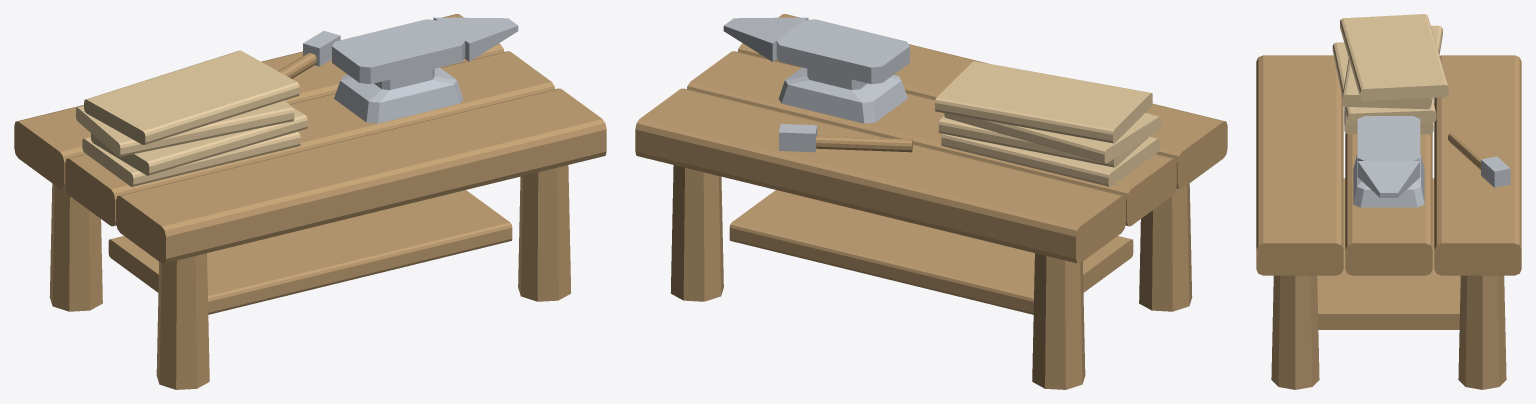
File: BuildStation.glb
3 renders of one model, left to right at view 1: azimuth 30°, elevation 25°; view 2: azimuth 150°, elevation 25°; view 3: azimuth 270°, elevation 25°, orthographic. The views are drawn at different scales.
Parts seen in each view (by area): view 1: BuildStation; view 2: BuildStation; view 3: BuildStation.
Part boxes in pixels (<box>): BuildStation: <box>14,14,606,389</box>; BuildStation: <box>635,14,1227,389</box>; BuildStation: <box>1256,14,1521,389</box>.
Bounding box in the file's own units: 5 × 2.5 × 2.98.
